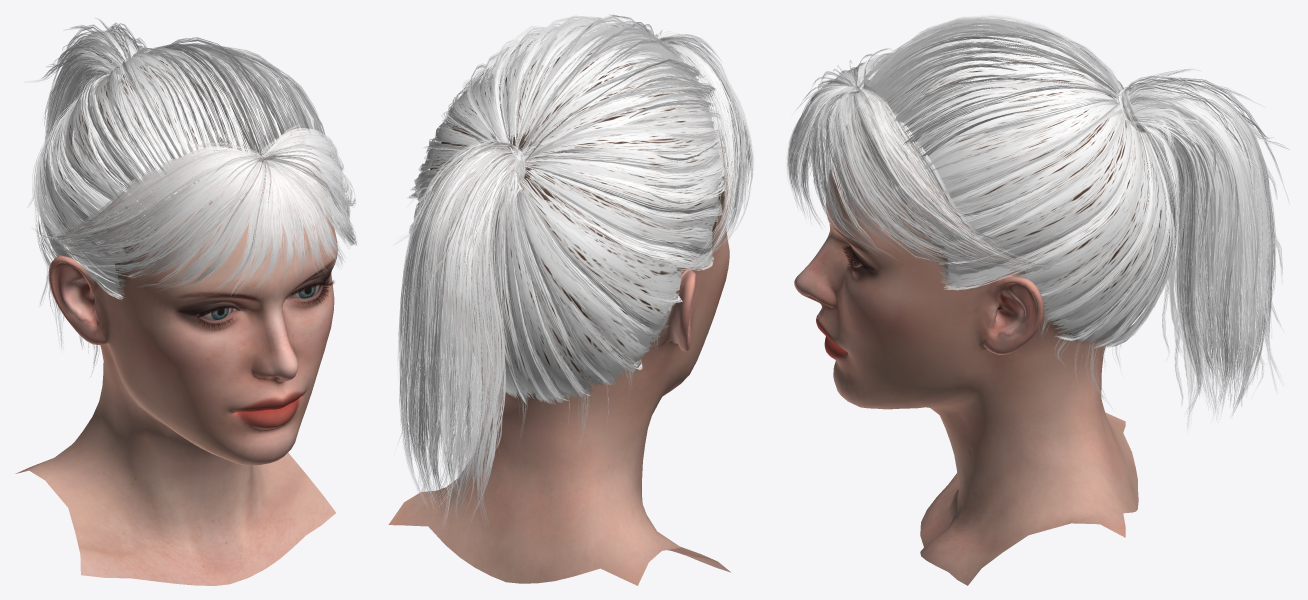
The picture shows the model from 3 angles, left to right: view 1: azimuth 30°, elevation 25°; view 2: azimuth 150°, elevation 25°; view 3: azimuth 270°, elevation 25°; orthographic projection. The views are drawn at different scales.
Parts seen in each view (by area): view 1: Object_8.004, extractedGeo_1.001, extractedGeo_1.002, extractedGeo_1, Object_34.001, Object_13, Object_26; view 2: extractedGeo_1.001, Object_8.004, extractedGeo_1.002, Object_34.001; view 3: extractedGeo_1.001, Object_8.004, extractedGeo_1, Object_34.001, extractedGeo_1.002.
Part boxes in pixels (bbox=[...]): Object_8.004: bbox=[15, 68, 337, 585]; extractedGeo_1.001: bbox=[24, 18, 331, 376]; extractedGeo_1.002: bbox=[33, 142, 295, 295]; extractedGeo_1: bbox=[258, 124, 356, 280]; Object_34.001: bbox=[51, 60, 270, 288]; Object_13: bbox=[196, 280, 334, 330]; Object_26: bbox=[198, 284, 319, 320]; extractedGeo_1.001: bbox=[393, 14, 735, 526]; Object_8.004: bbox=[388, 60, 731, 585]; extractedGeo_1.002: bbox=[657, 31, 753, 273]; Object_34.001: bbox=[427, 53, 727, 400]; extractedGeo_1.001: bbox=[852, 14, 1289, 432]; Object_8.004: bbox=[794, 58, 1158, 585]; extractedGeo_1: bbox=[787, 85, 1062, 272]; Object_34.001: bbox=[846, 57, 1161, 341]; extractedGeo_1.002: bbox=[787, 48, 892, 167].
Size of the model in its own units: 0.2001 by 0.3619 by 0.3187.
12 materials, 12 textured.
